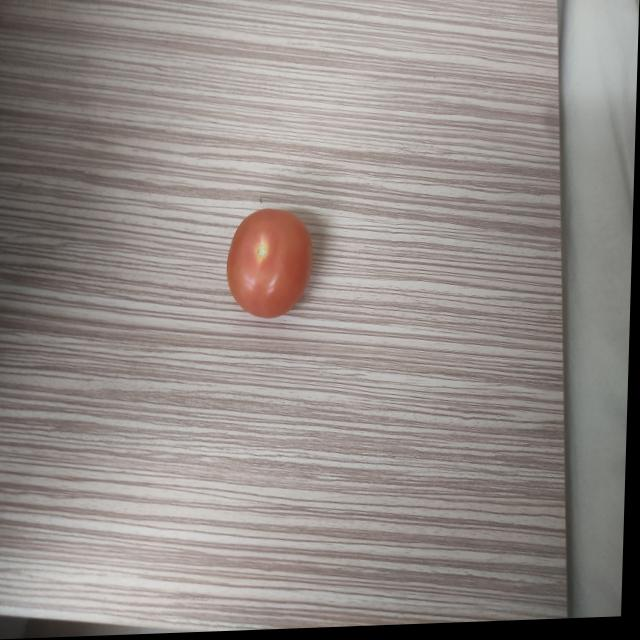sari: (218, 197, 327, 331)
